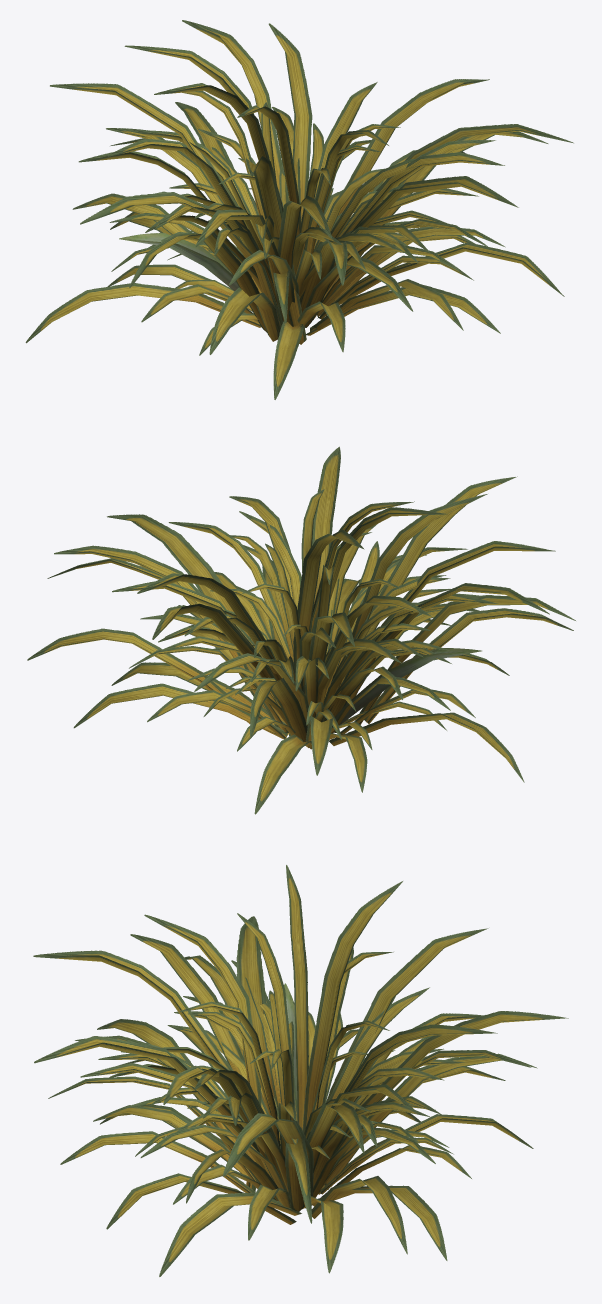
The model's file is MB_Pandanus_Variegatus_02.fbx.
3 renders of one model, top to bottom at view 1: azimuth 30°, elevation 25°; view 2: azimuth 150°, elevation 25°; view 3: azimuth 270°, elevation 25°, orthographic. The views are drawn at different scales.
Visible parts, largest first — view 1: MB_Pandanus_Variegatus_02_LOD0; view 2: MB_Pandanus_Variegatus_02_LOD0; view 3: MB_Pandanus_Variegatus_02_LOD0.
Boxes of the visible parts, x1,y1,x2,y2 form: MB_Pandanus_Variegatus_02_LOD0: [25, 20, 573, 399]; MB_Pandanus_Variegatus_02_LOD0: [27, 446, 575, 814]; MB_Pandanus_Variegatus_02_LOD0: [33, 865, 568, 1276].
Size of what is drawn, in the model's own units: 246 by 125 by 228.
